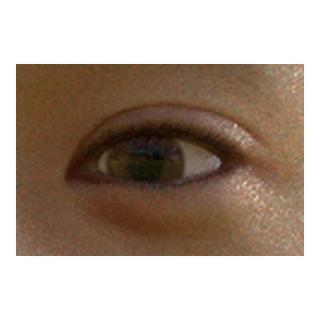pupil: (128, 147, 164, 183)
